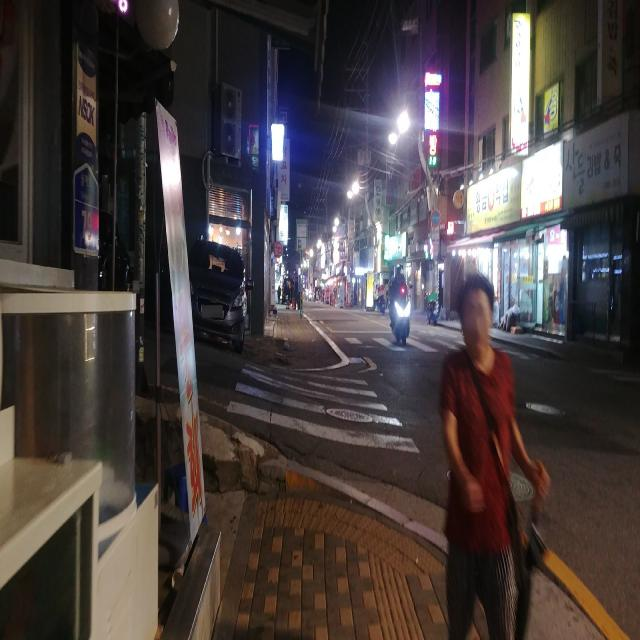횡단보도: (227, 363, 419, 453)
